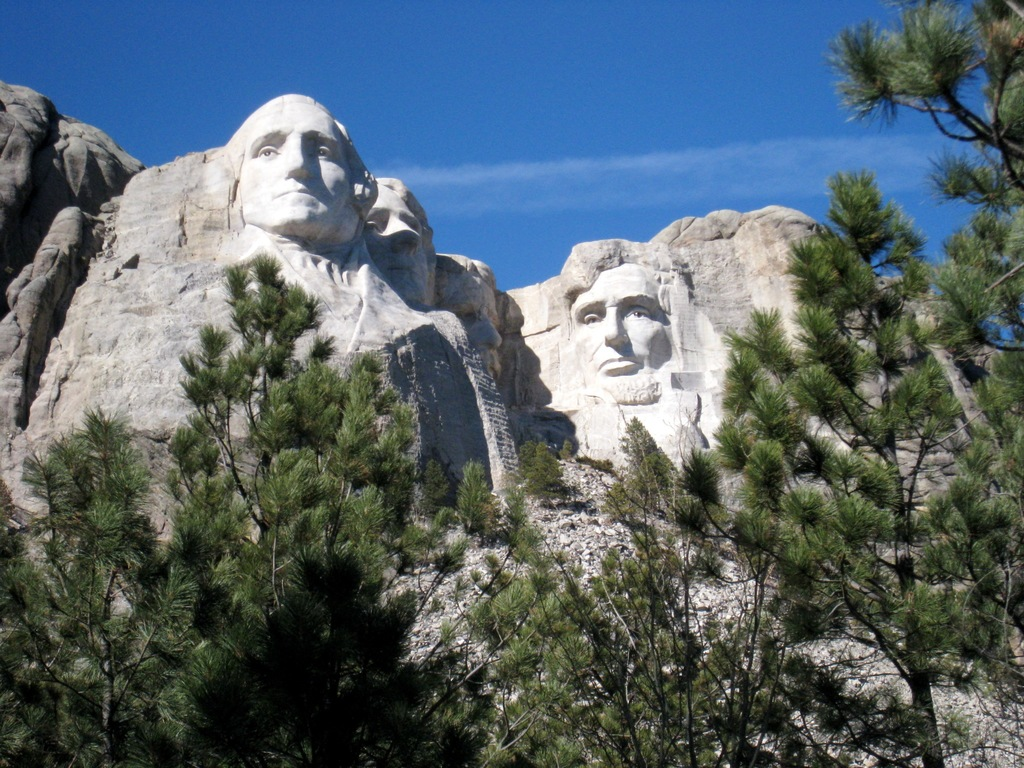Tree: (18, 251, 441, 767), (710, 185, 1023, 767), (439, 421, 789, 764), (816, 0, 1021, 325)
